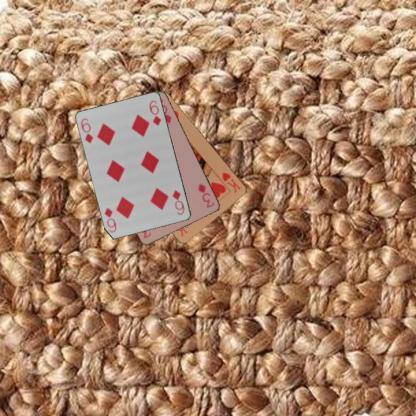3d: (196, 180, 216, 210)
6d: (78, 116, 95, 144), (170, 187, 186, 216)
Kh: (219, 169, 242, 194)
